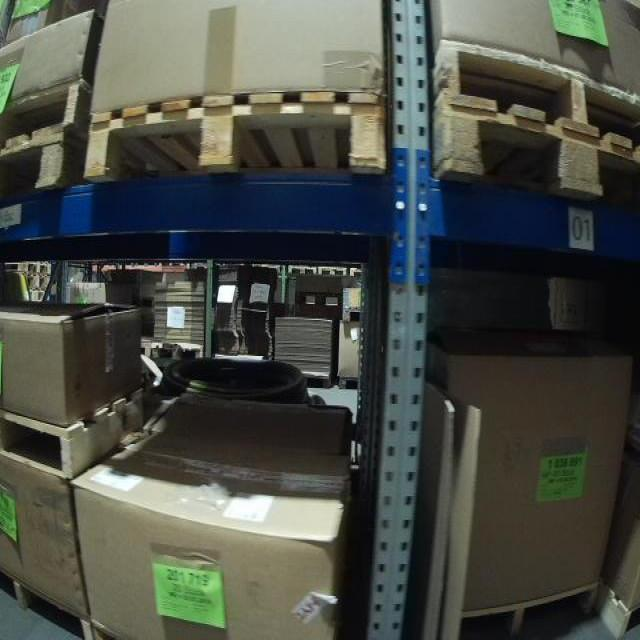pallet: (79, 91, 386, 182), (437, 93, 640, 206), (437, 45, 640, 148), (0, 391, 140, 475), (458, 586, 601, 640), (0, 569, 92, 640), (1, 83, 89, 149), (1, 132, 76, 195), (287, 263, 318, 276), (318, 265, 350, 277), (340, 307, 364, 322), (338, 376, 363, 390), (300, 379, 330, 389), (350, 266, 364, 277)
